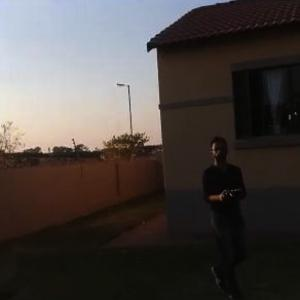follow: (191, 129, 260, 299)
